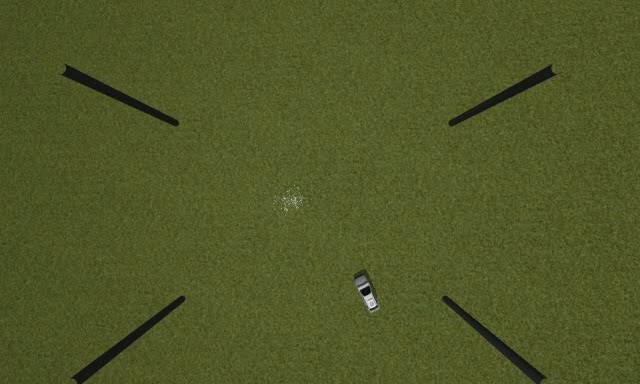Car: (352, 272, 380, 312)
